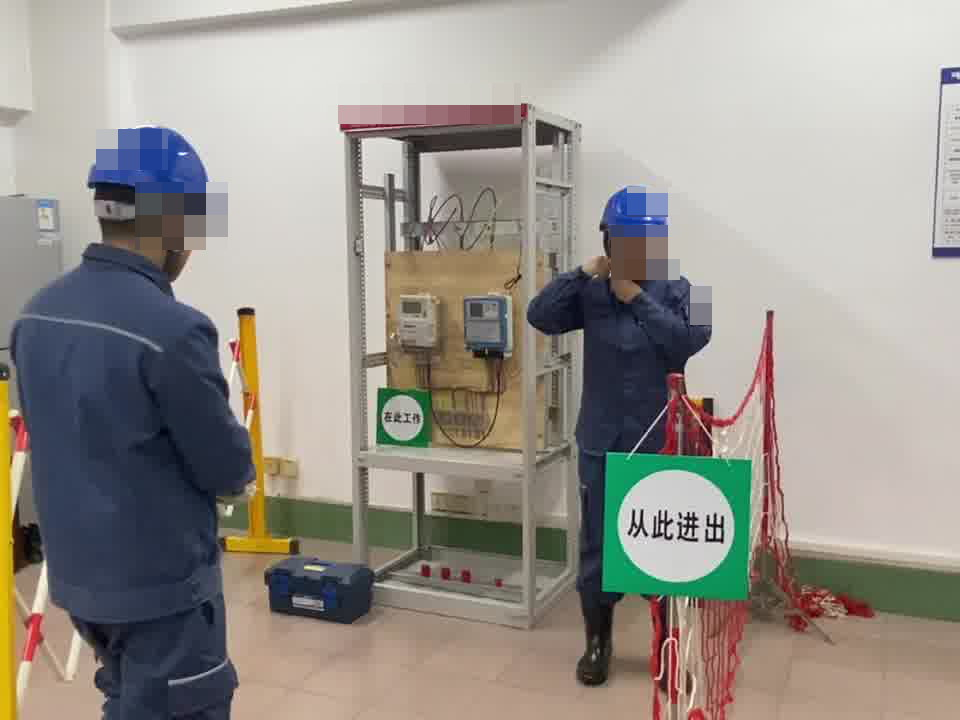downsuit: (569, 452, 671, 623), (90, 620, 240, 720)
halt: (82, 122, 224, 280), (597, 184, 672, 280)
hand: (609, 270, 642, 303), (582, 252, 619, 277)
inear: (148, 190, 199, 282)
intosign: (600, 444, 759, 606)
person: (7, 120, 271, 720), (523, 183, 717, 696)
shoe: (573, 596, 616, 689)
sleeve: (681, 296, 705, 323)
upsuit: (15, 256, 258, 614), (526, 264, 713, 449)
worksign: (366, 385, 435, 454)
